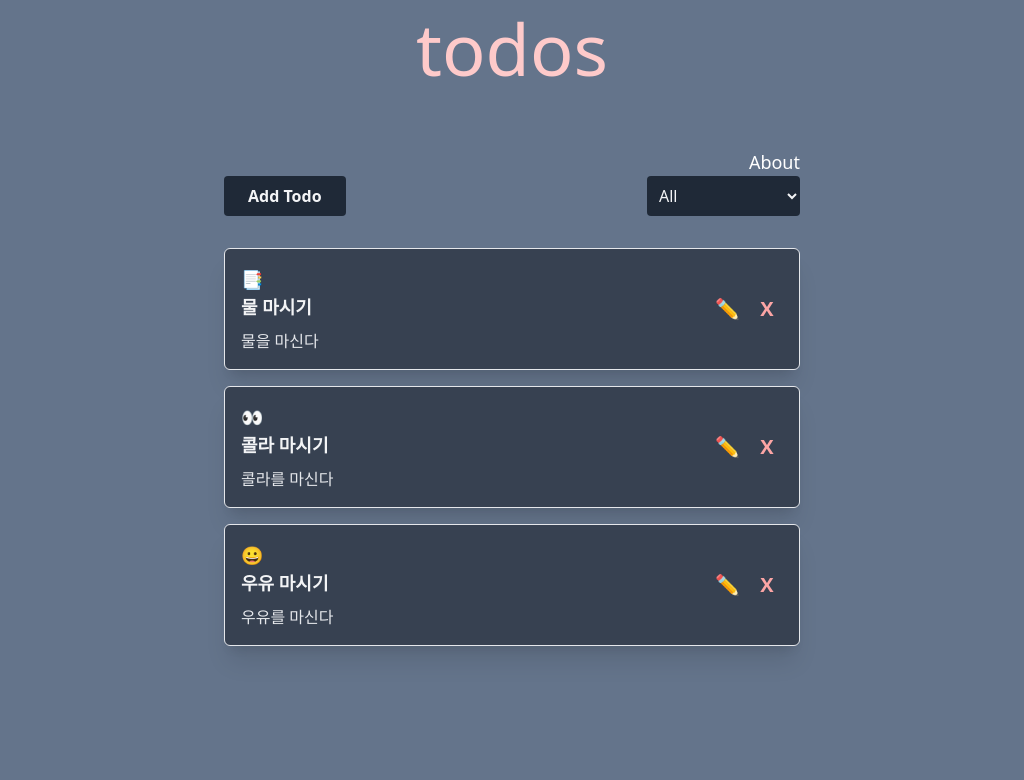
Scenario: todo 관리 › Todo 모달 창을 Calcle 버튼을 클릭하여 닫을 수 있다.
Click the button "Add Todo": {"x": 285, "y": 196} [224, 176, 346, 216]
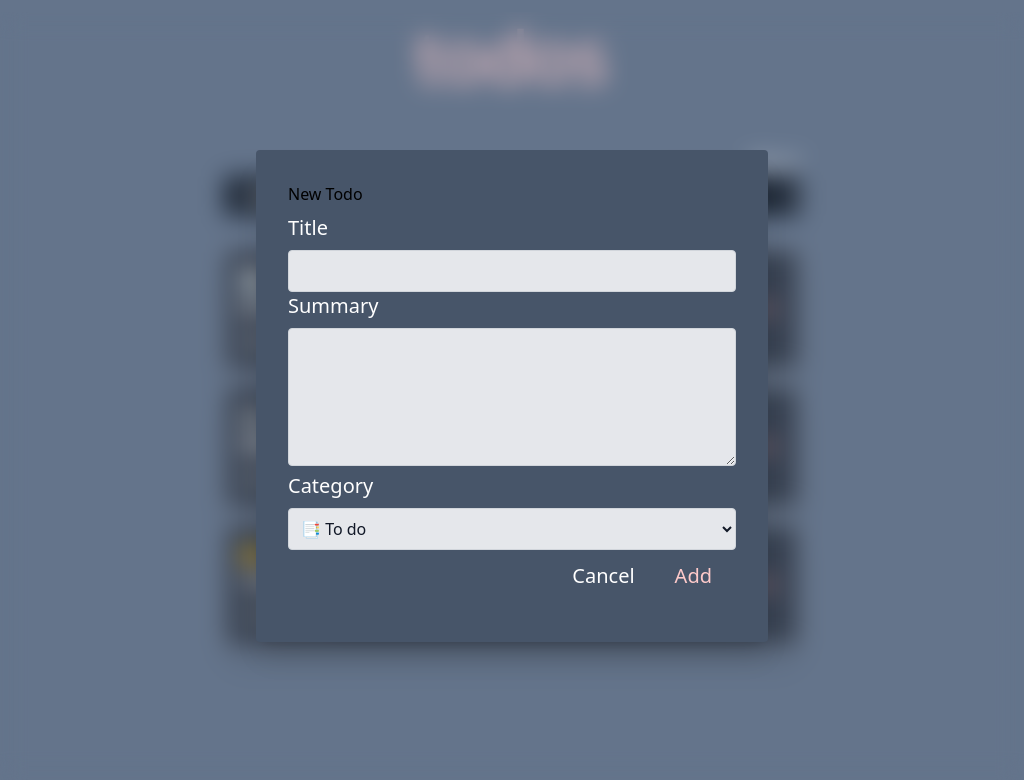
Expected: the element with test id "modal-backdrop" is shown
Expected: the element with test id "modal-container" is shown, [288, 182, 736, 602]
Click the button "Cancel": {"x": 603, "y": 576} [572, 550, 634, 602]
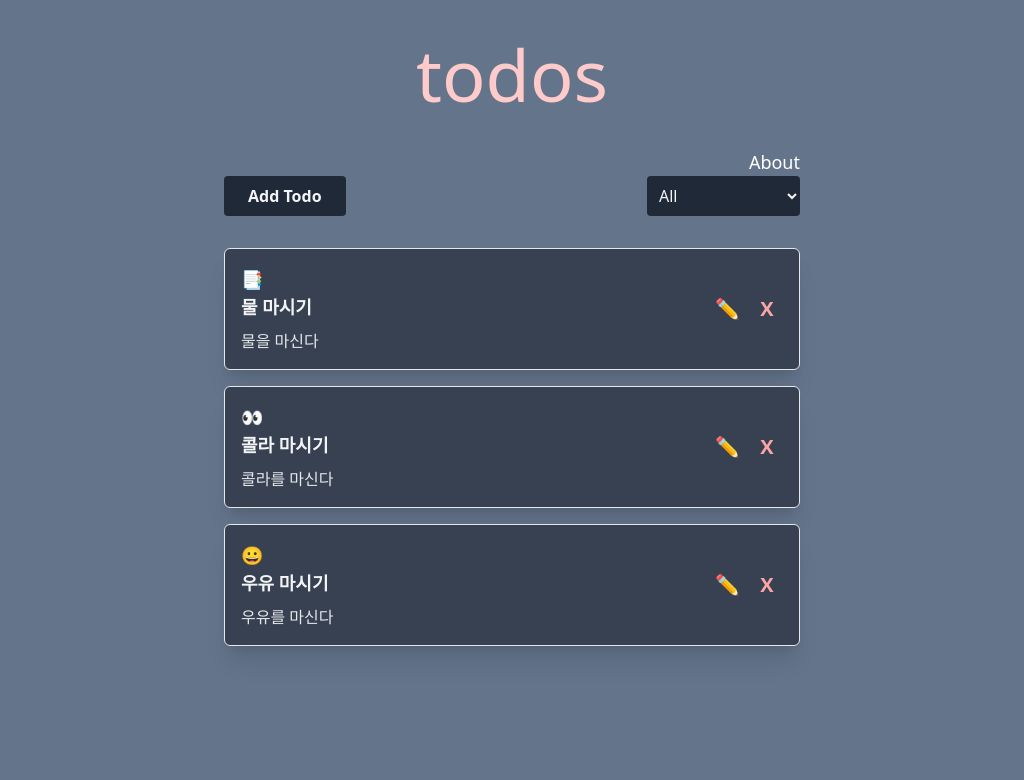
Expected: the element with test id "modal-backdrop" is gone
Expected: the element with test id "modal-container" is gone
